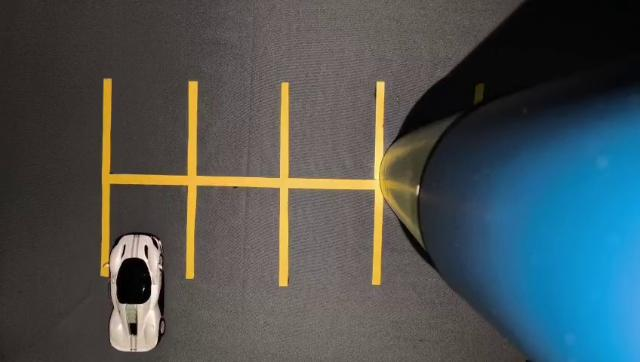toy_car: (86, 219, 193, 362)
